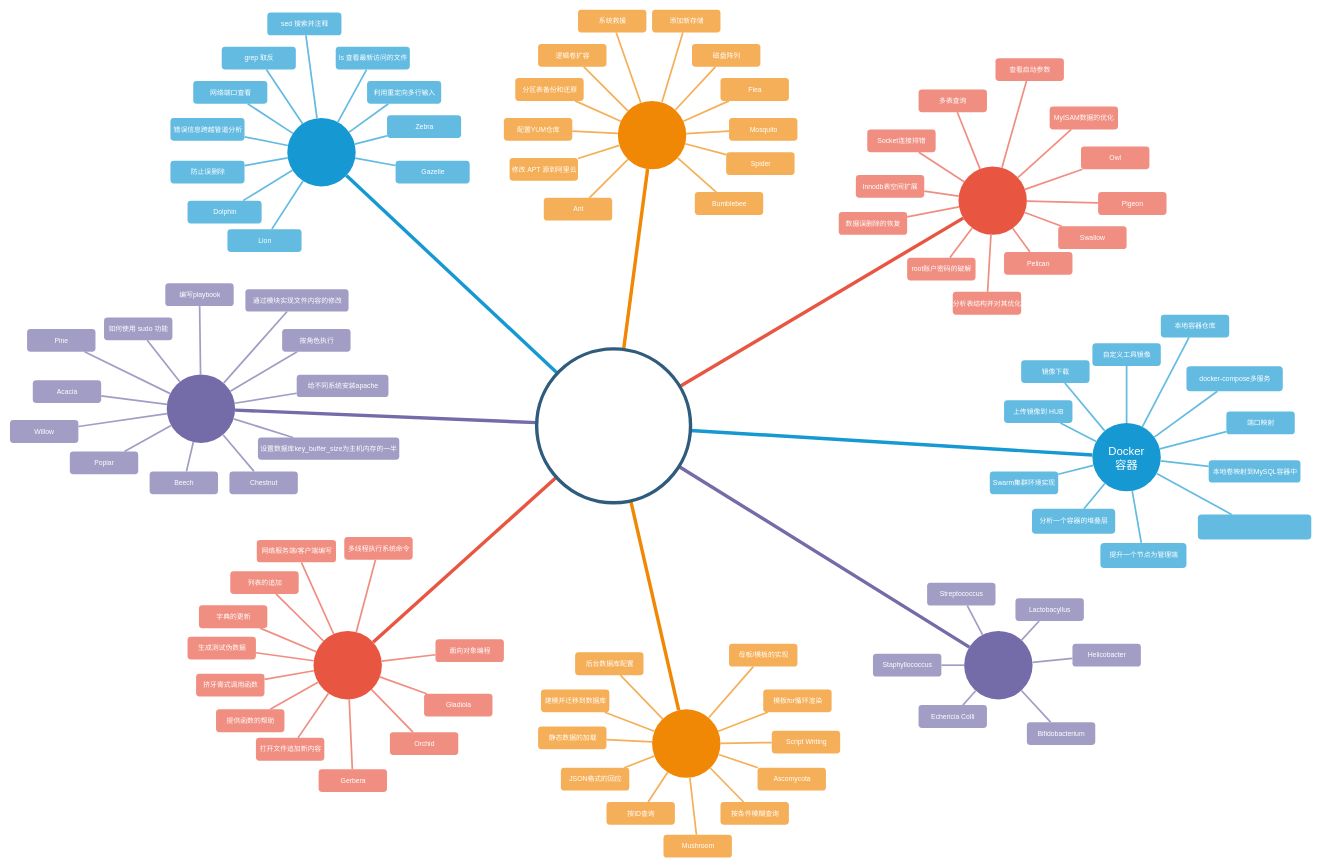
This 1321x868 diagram has some shape labels left out. The shapes that lost their labels are listed below. From the top down, each one's centre as x and y in pixels, then its label:
At point (321, 152): "Linux基础".
At point (652, 135): "核心服务".
At point (992, 200): "MySQL 数据库".
At point (200, 408): "Ansible 自动化".
At point (613, 425): "脑回环".
At point (1254, 526): "只在管理端上运行三个相同实例".
At point (347, 665): "Python 编程".
At point (998, 665): "Bacteria".
At point (686, 743): "Django 后台".
